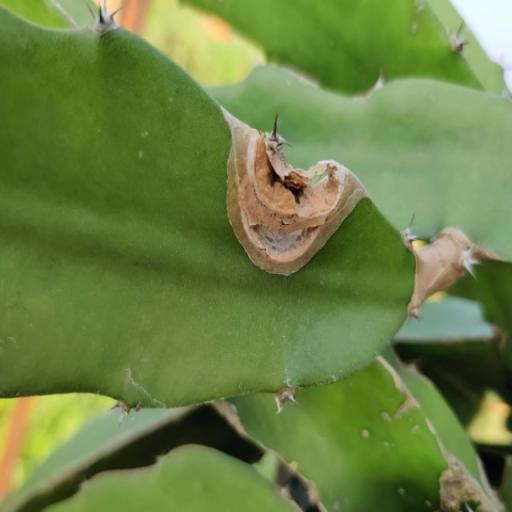stemcanker: (132, 116, 158, 173), (406, 0, 429, 38), (328, 486, 359, 512), (407, 417, 426, 443), (164, 89, 180, 116), (420, 490, 439, 512), (358, 422, 374, 447), (326, 33, 342, 56), (391, 484, 411, 502), (316, 273, 330, 296), (381, 432, 392, 458)
